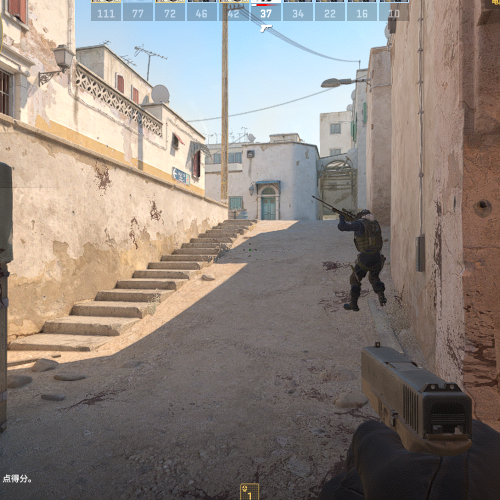ct_body: (339, 211, 389, 311)
ct_head: (358, 210, 374, 222)
